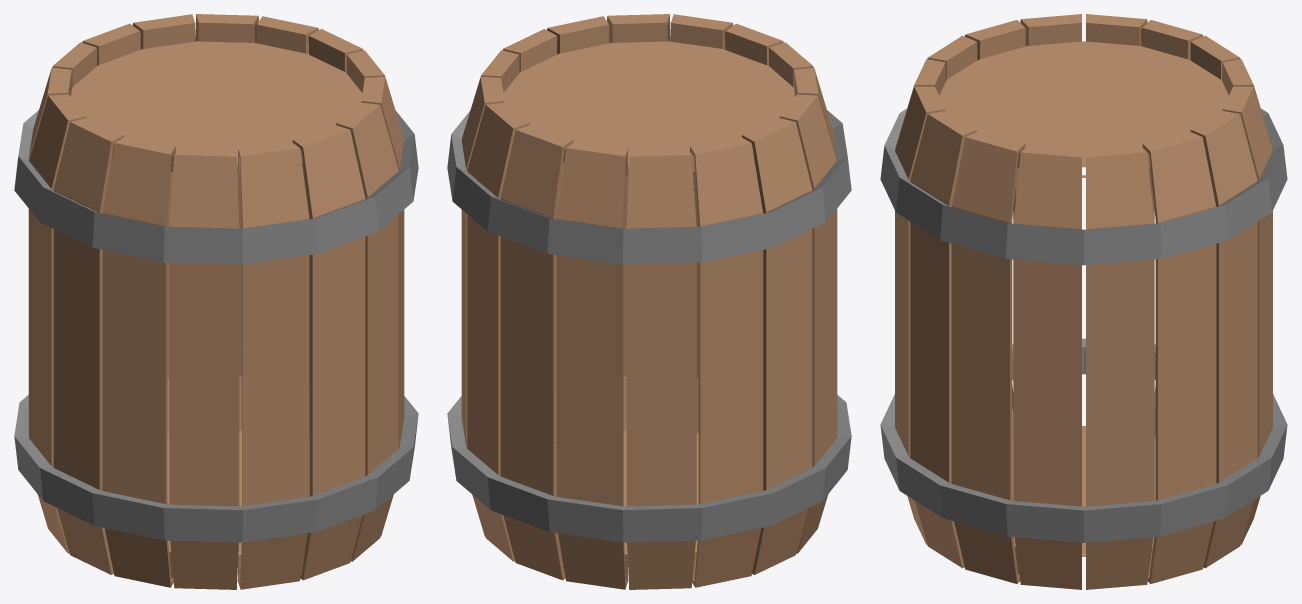
File: barrel.fbx
3 views of the same model, side by side, from view 1: azimuth 30°, elevation 25°; view 2: azimuth 150°, elevation 25°; view 3: azimuth 270°, elevation 25° (orthographic).
Visible parts, largest first — view 1: Cylinder; view 2: Cylinder; view 3: Cylinder.
Boxes of the visible parts, left/top/right/bottom form: Cylinder: left=14, top=14, right=418, bottom=589; Cylinder: left=447, top=14, right=851, bottom=589; Cylinder: left=880, top=14, right=1287, bottom=589.
Size of the model in its own units: 50.58 by 59.29 by 50.58.
